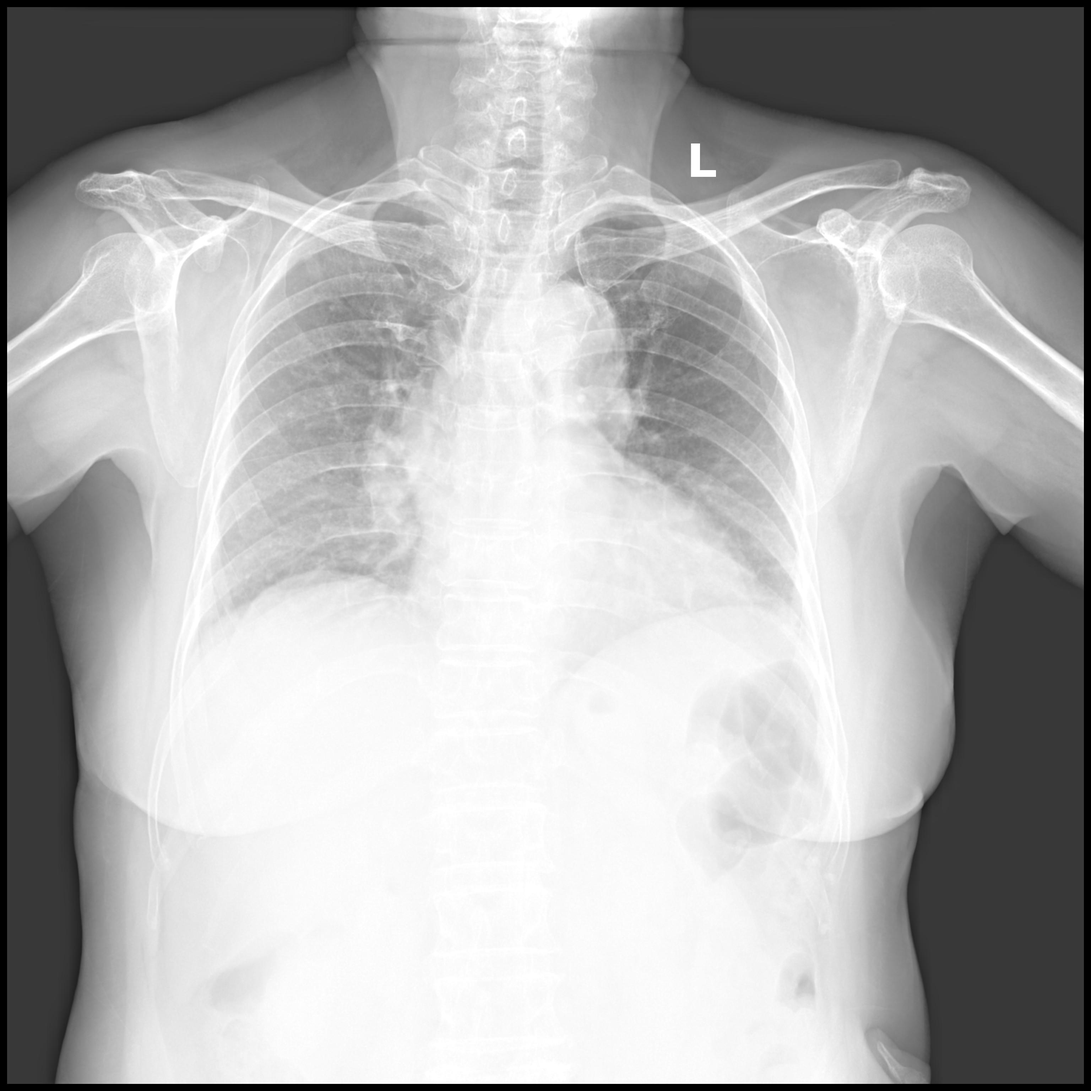Aortic enlargement: (507, 279, 628, 413)
Cardiomegaly: (406, 537, 769, 666)
Pleural thickening: (571, 205, 670, 236), (412, 191, 455, 221)
